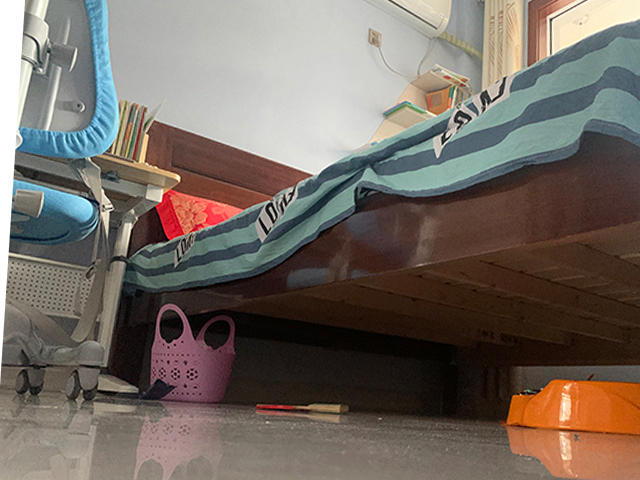bed: (114, 18, 640, 392)
